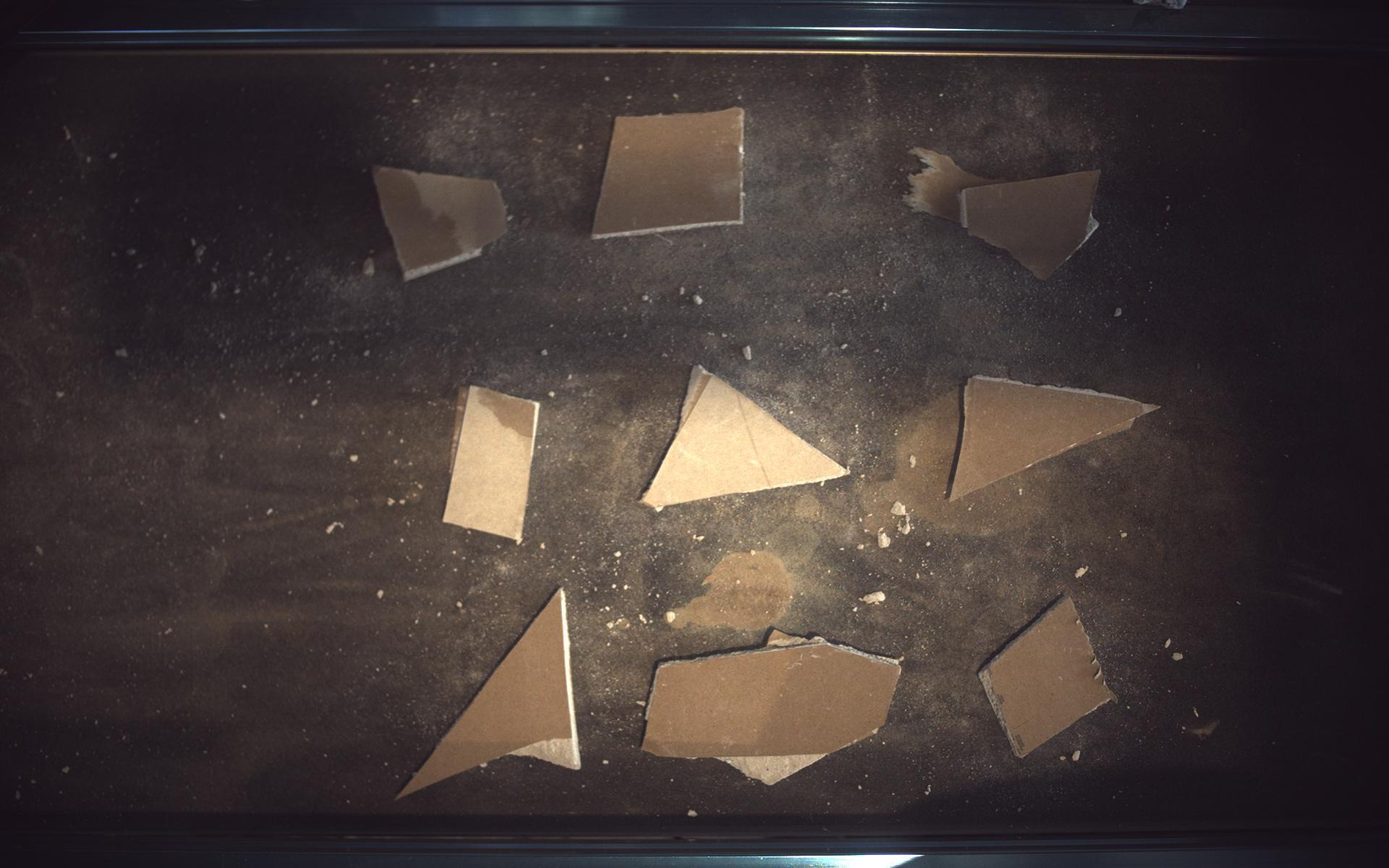gypsum_board: (643, 631, 904, 786), (397, 589, 581, 801), (642, 365, 849, 510), (951, 376, 1160, 502), (905, 146, 1102, 278), (981, 595, 1118, 759), (592, 106, 745, 238), (443, 386, 540, 543), (373, 166, 506, 279)
